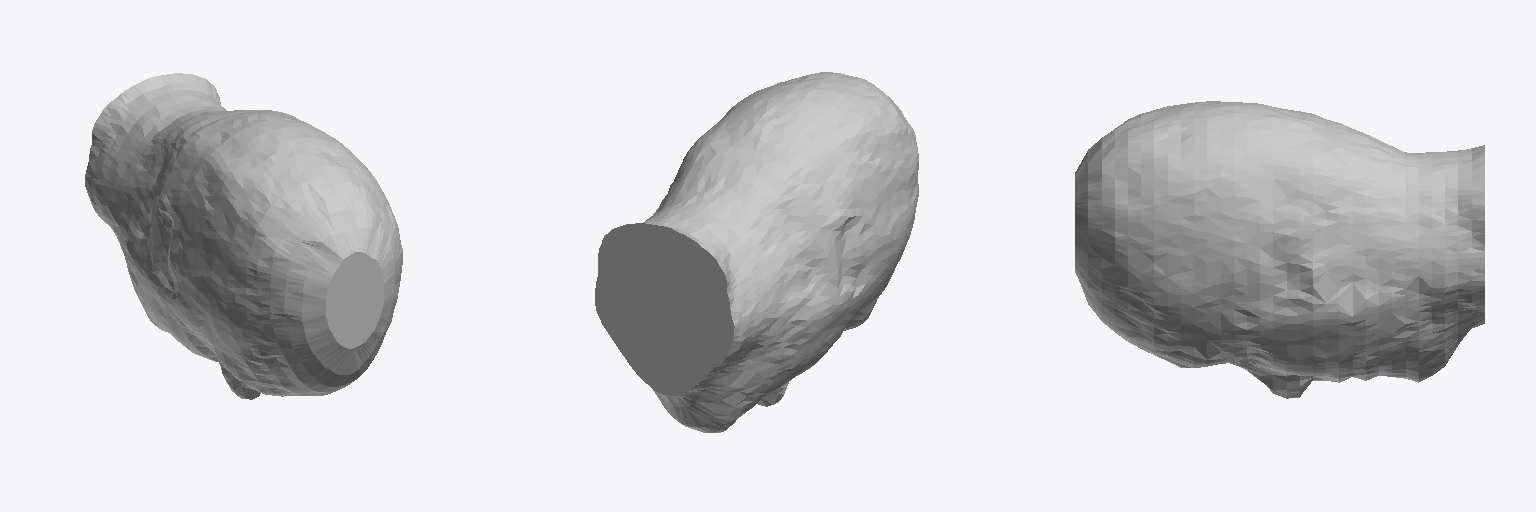
File: slices.obj
3 renders of one model, left to right at view 1: azimuth 30°, elevation 25°; view 2: azimuth 150°, elevation 25°; view 3: azimuth 270°, elevation 25°, orthographic.
Parts seen in each view (by area): view 1: object; view 2: object; view 3: object.
Boxes of the visible parts, x1=… form: object: x1=85, y1=73, x2=402, y2=399; object: x1=595, y1=72, x2=918, y2=432; object: x1=1075, y1=101, x2=1484, y2=398.
Bounding box in the file's own units: 320 × 483 × 620.